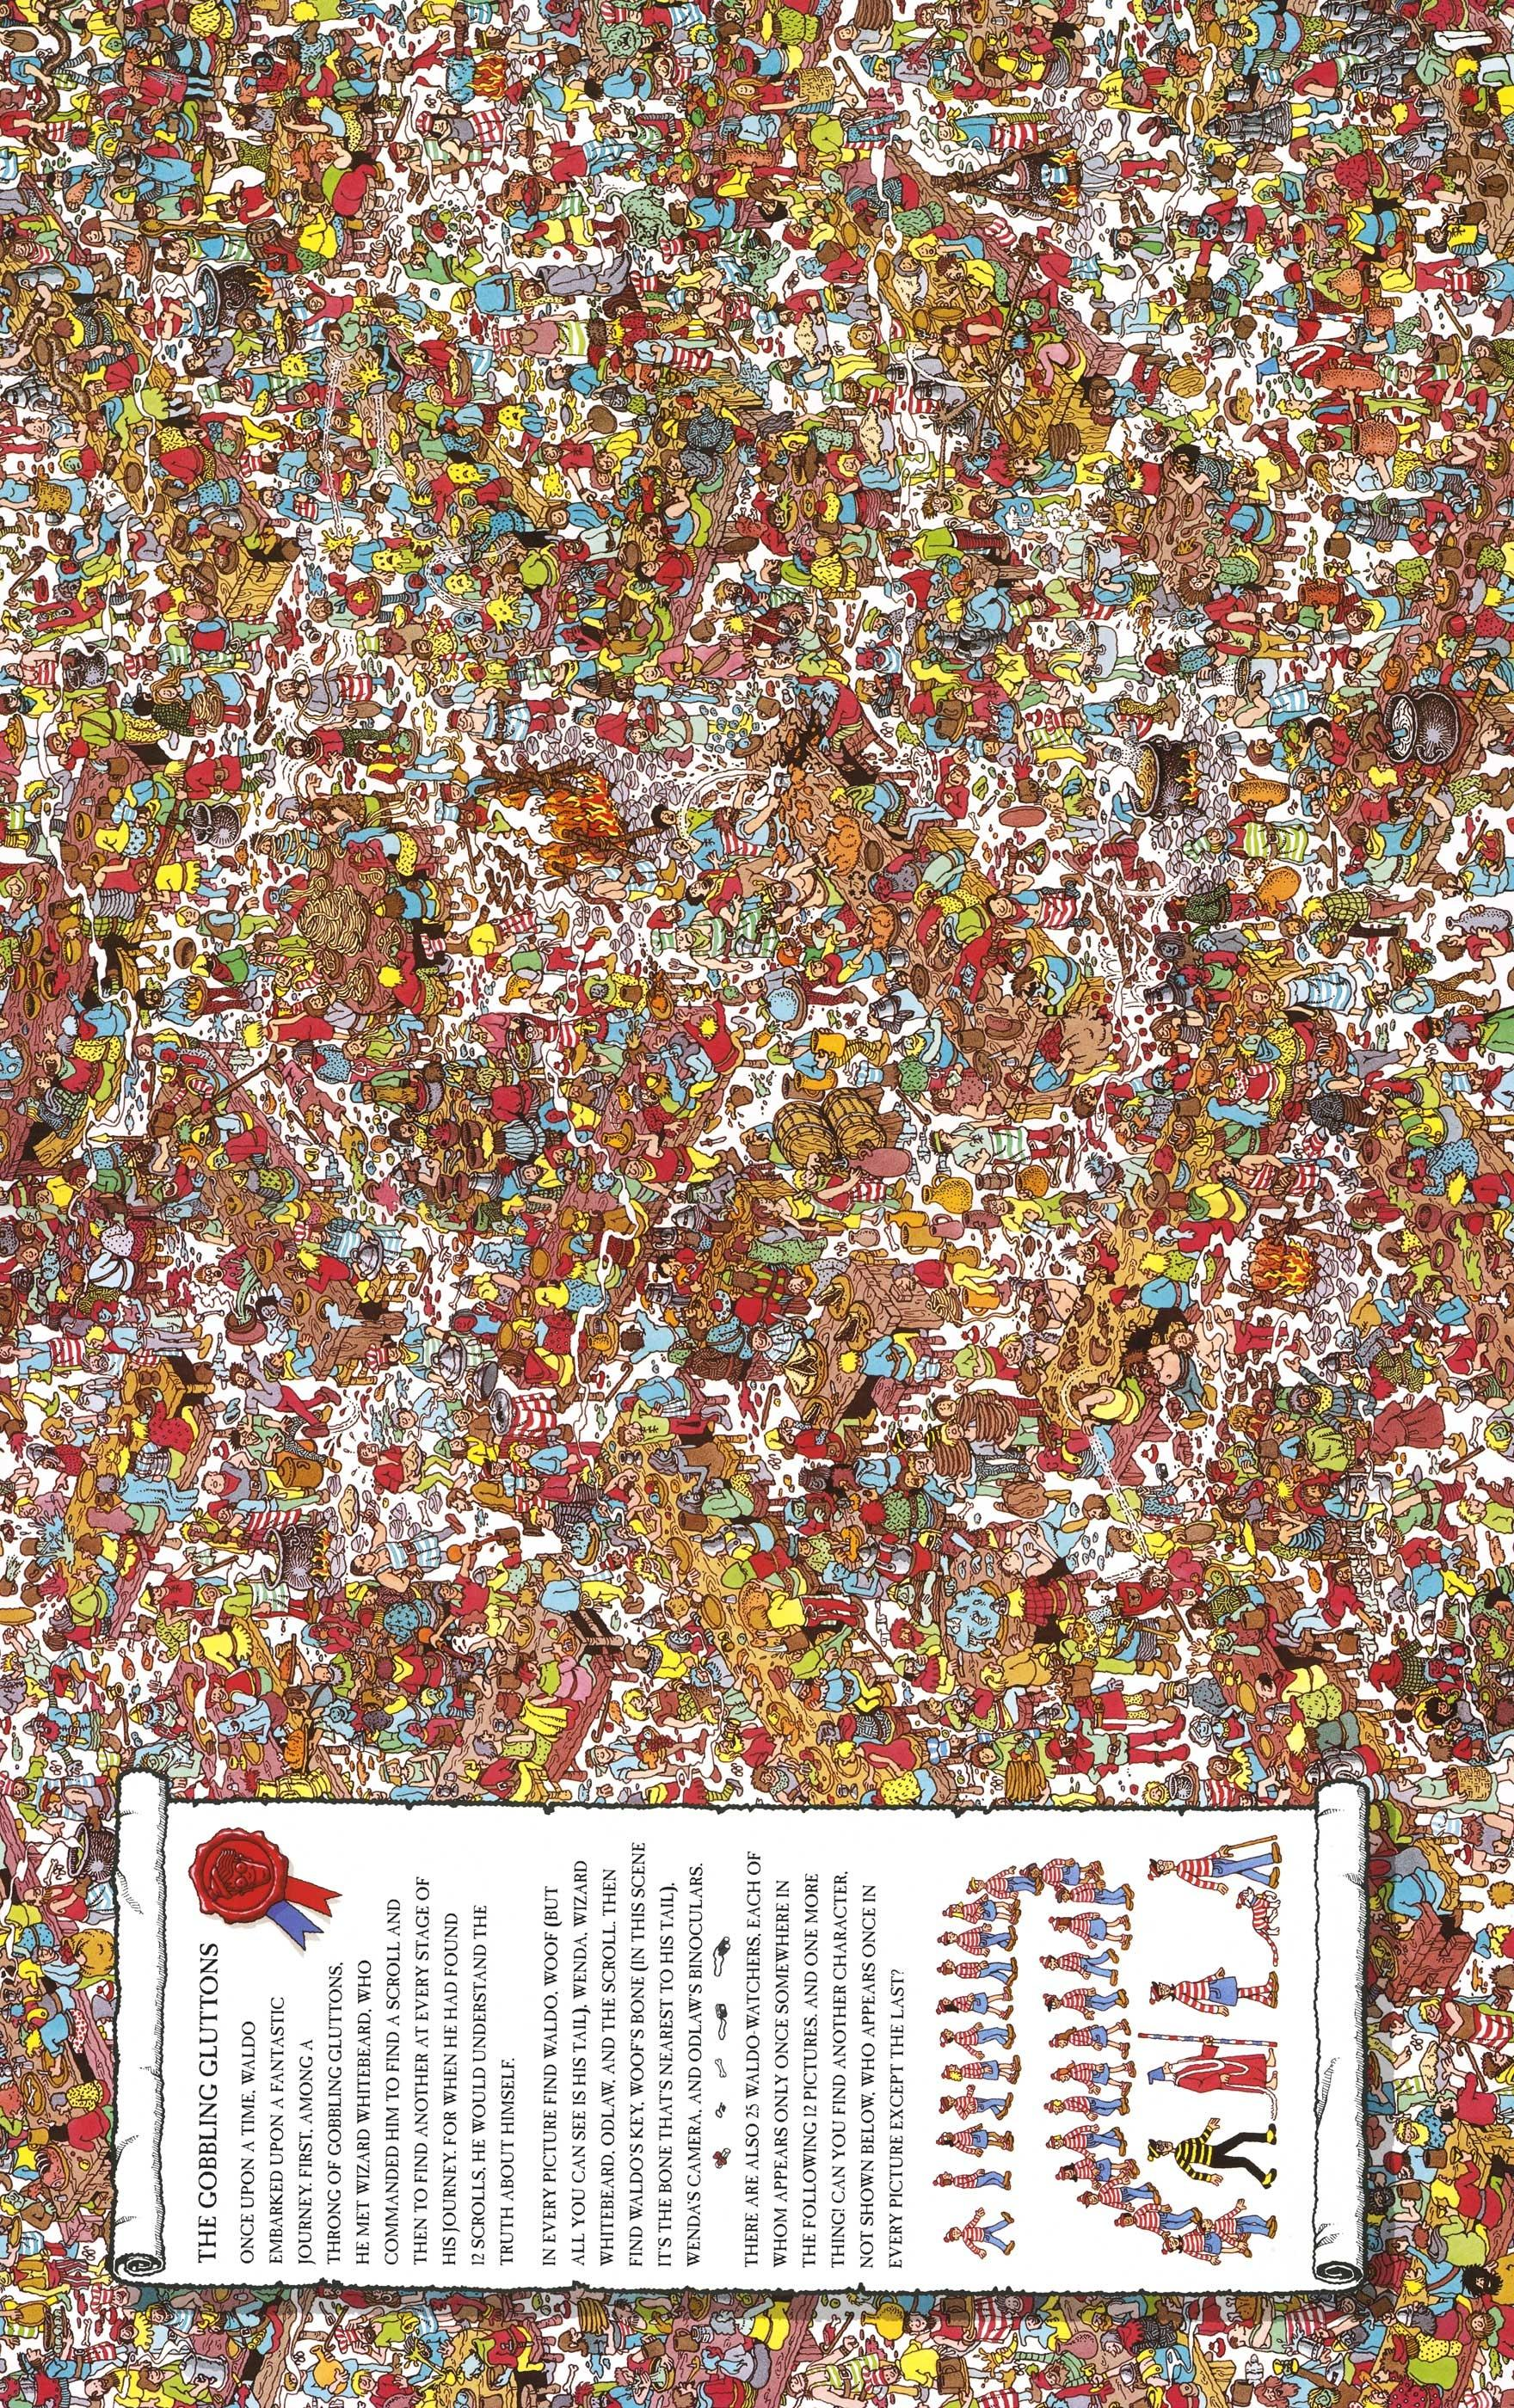waldos: (508, 1017, 583, 1055)
